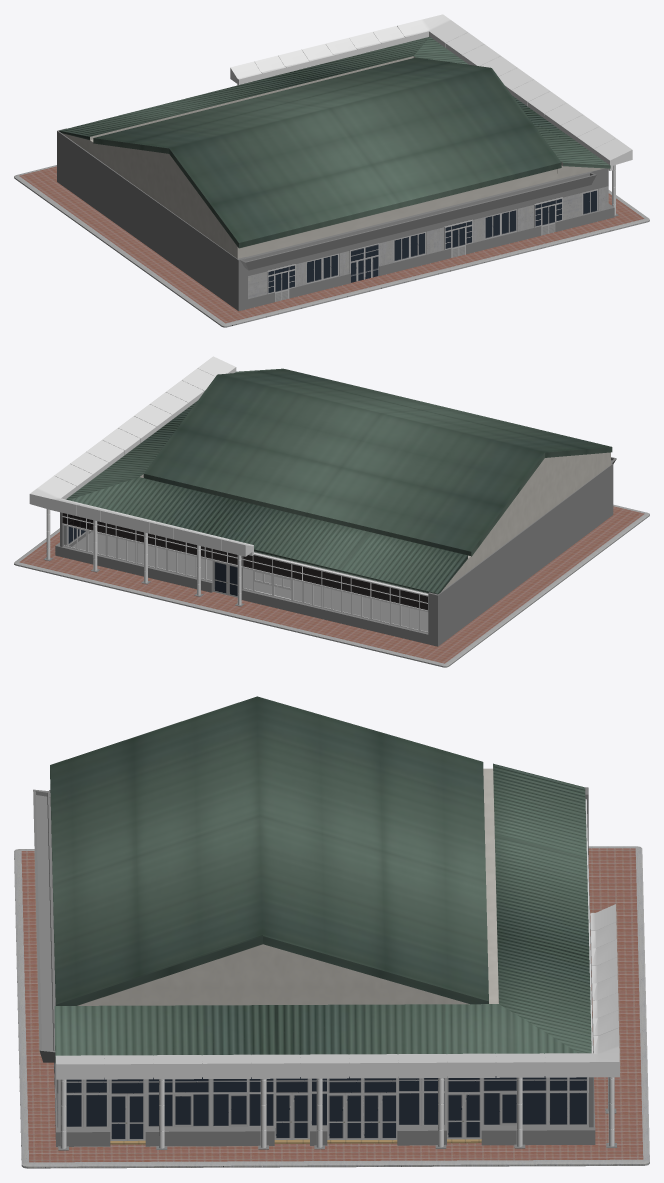
Rendered from cantin.glb.
3 renders of one model, top to bottom at view 1: azimuth 30°, elevation 25°; view 2: azimuth 150°, elevation 25°; view 3: azimuth 270°, elevation 25°, orthographic. The views are drawn at different scales.
Visible parts, largest first — view 1: Canteen(Clone); view 2: Canteen(Clone); view 3: Canteen(Clone).
Part boxes in pixels (left/top/right/bottom): Canteen(Clone): left=14, top=14, right=649, bottom=327; Canteen(Clone): left=14, top=356, right=649, bottom=667; Canteen(Clone): left=14, top=696, right=649, bottom=1168.
Size of the model in its own units: 2.45 by 0.6242 by 2.06.
Materials: 9 (6 with a texture image).
